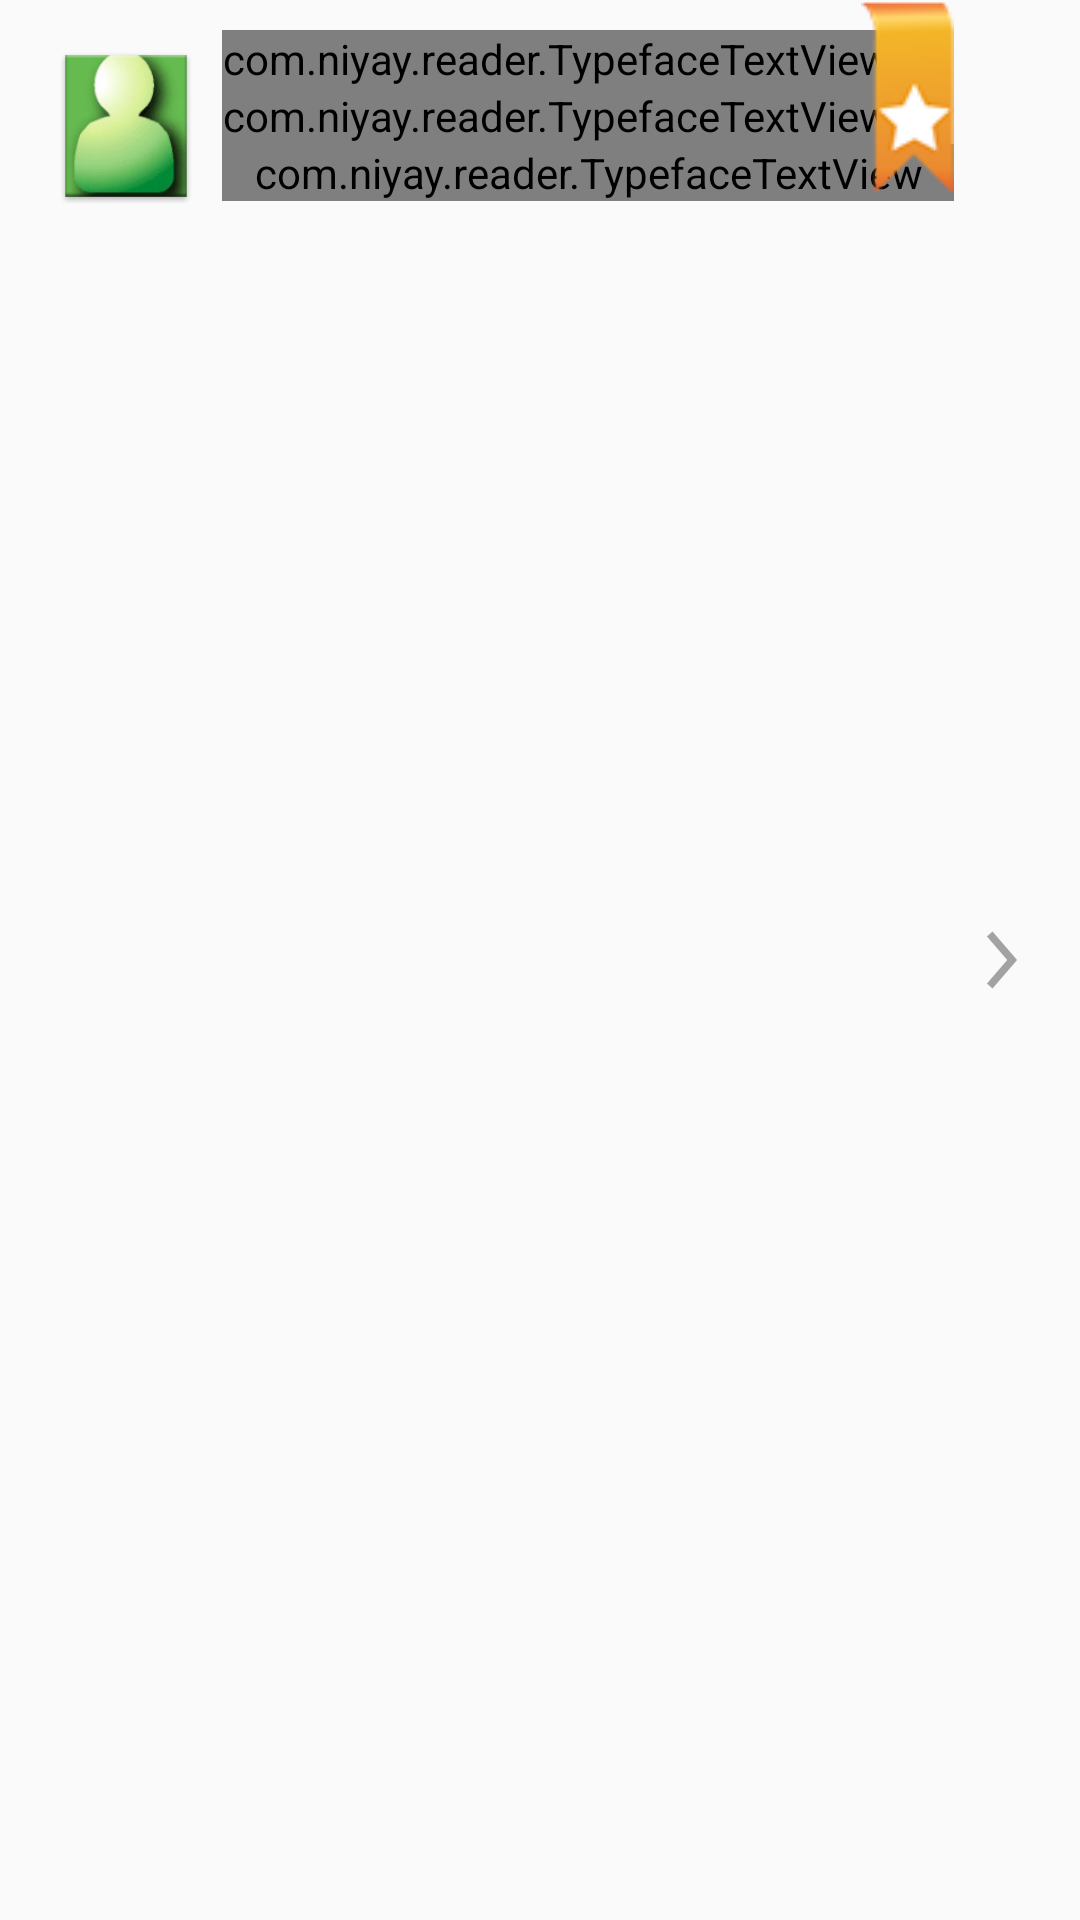

Named icons in this screenshot (1080px×1920px) and their centers, point (x, y):
bookmark: point (907, 96)
next: point (1002, 960)
user: point (126, 127)
